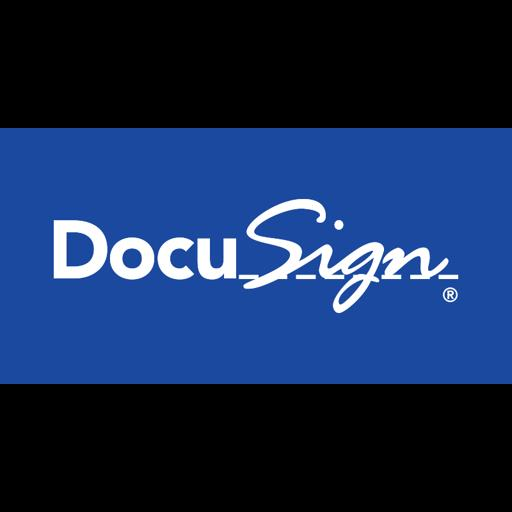DocuSign: (0, 128, 512, 384)
